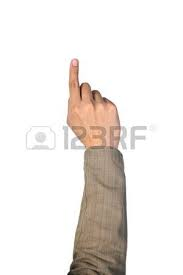hand: (59, 51, 135, 159)
